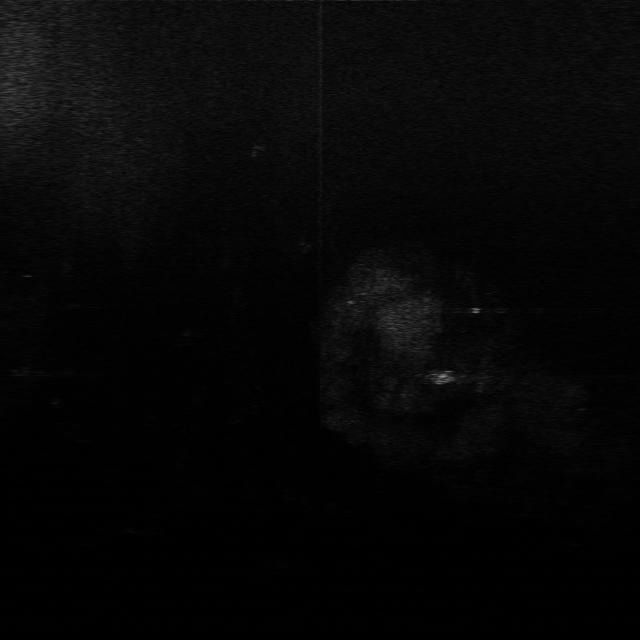rov: (428, 370, 459, 385)
